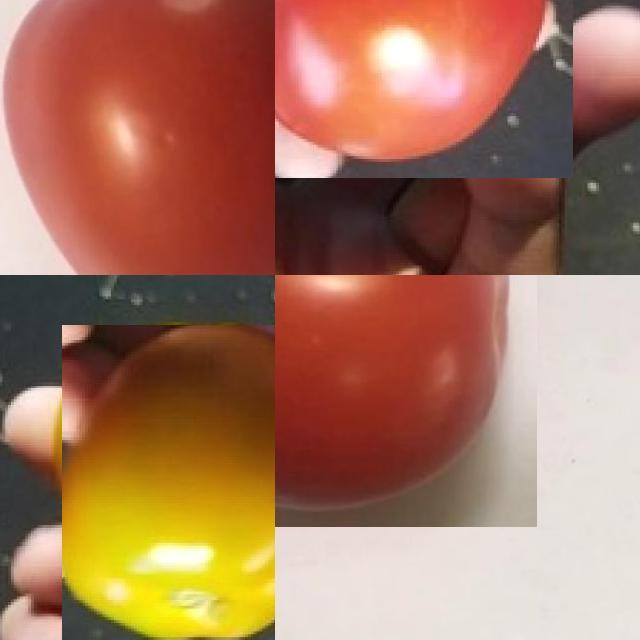Fresh Tomato: (0, 0, 275, 275), (62, 325, 275, 639), (275, 275, 536, 527), (275, 0, 573, 177)
